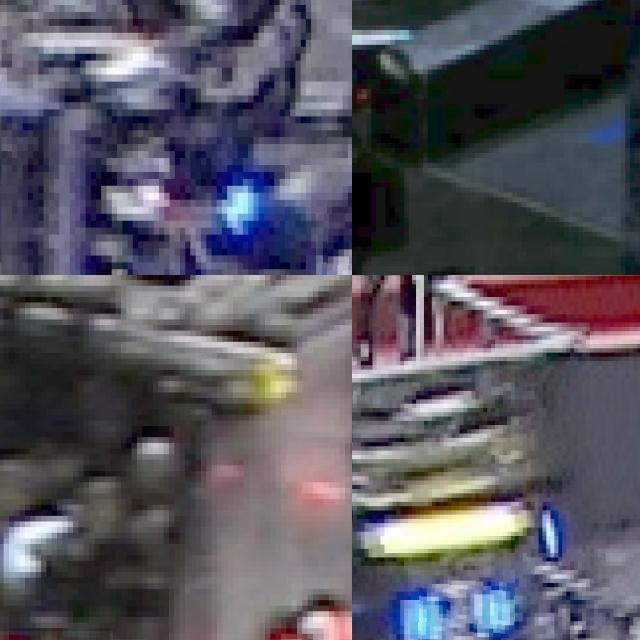B2: (408, 570, 514, 640)
R2: (257, 594, 352, 640)
